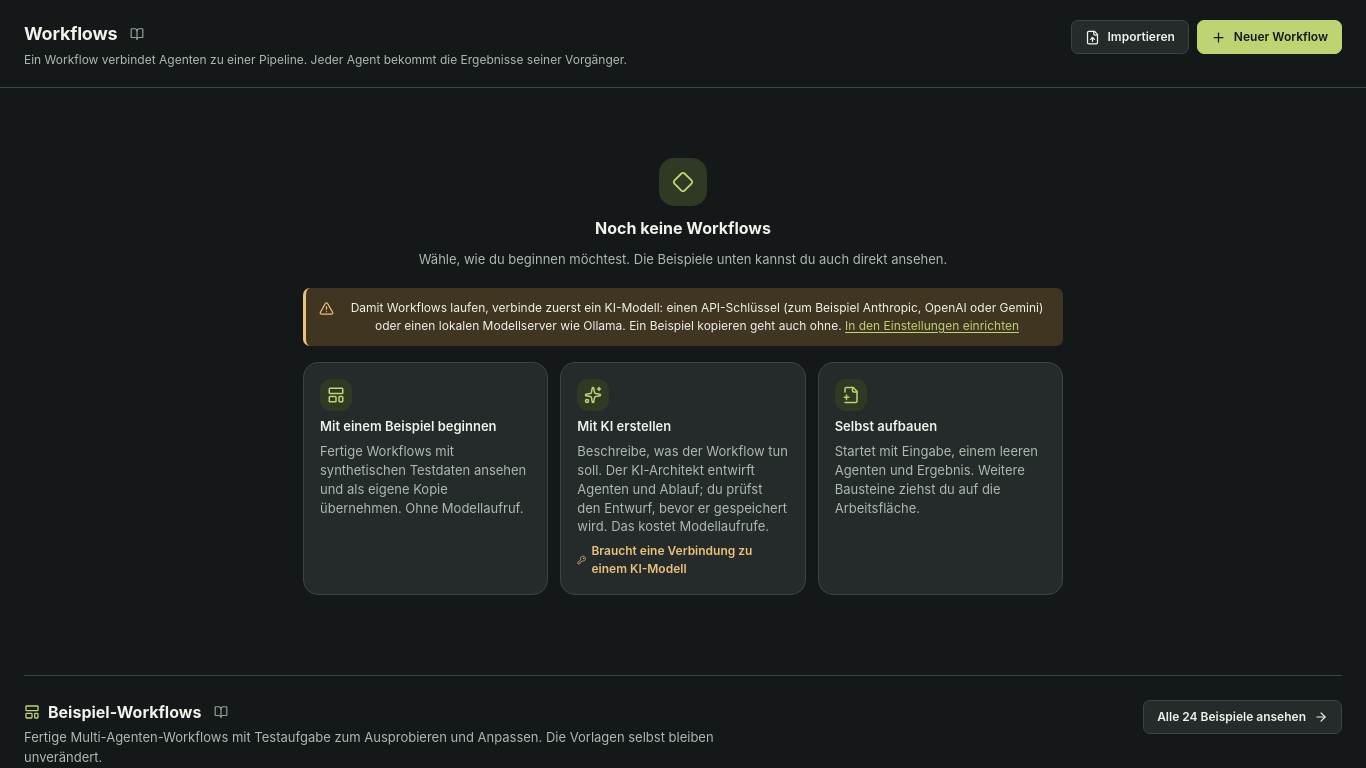
Test: WorkflowsPage without a model connection › warns in the AI dialog before a goal is typed
The image size is (1366, 768).
Expected: the element with test id "model-needed" is shown, x1=351 y1=300 x2=1043 y2=332
Step 1. Click the button "Mit KI erstellen" → (683, 478), box x1=560 y1=362 x2=806 y2=595
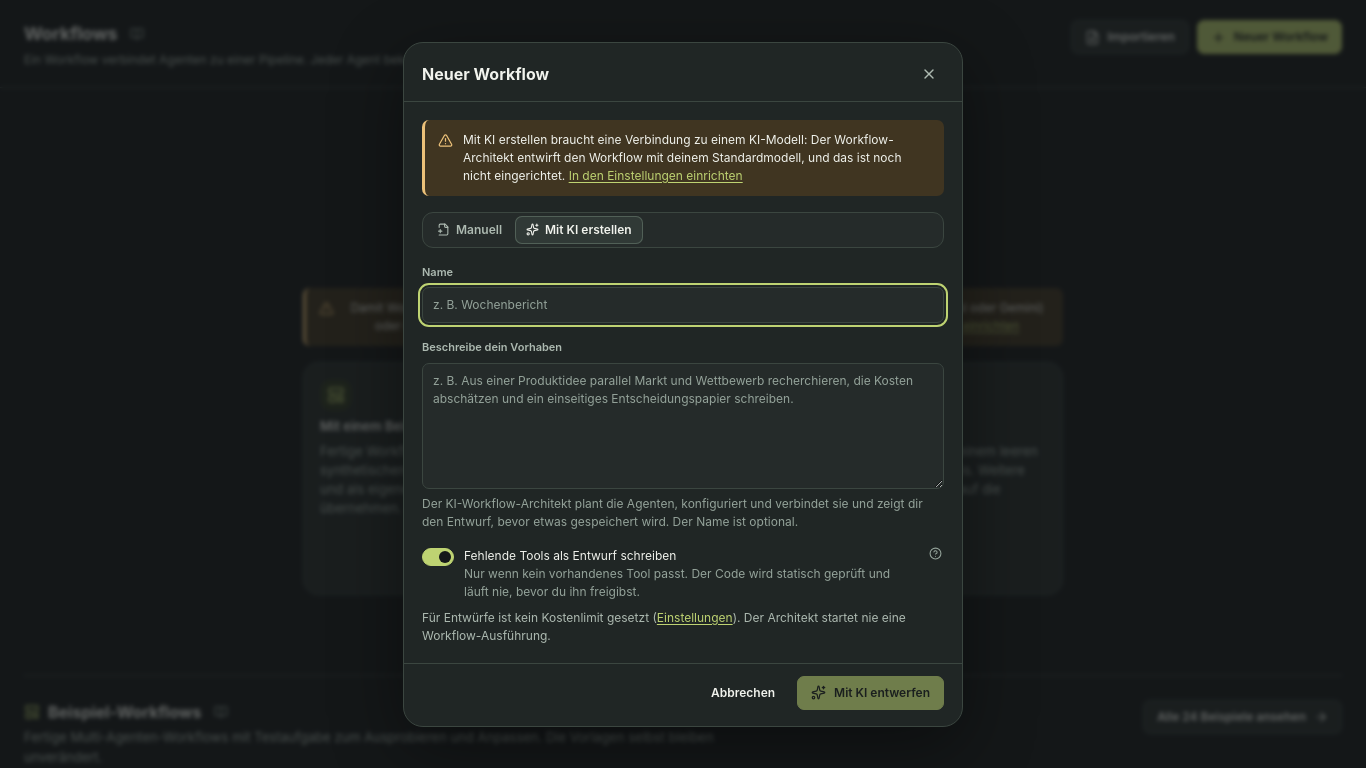
Result: the element with test id "model-needed" shows "Workflow-Architekt" at x1=463 y1=132 x2=902 y2=182
